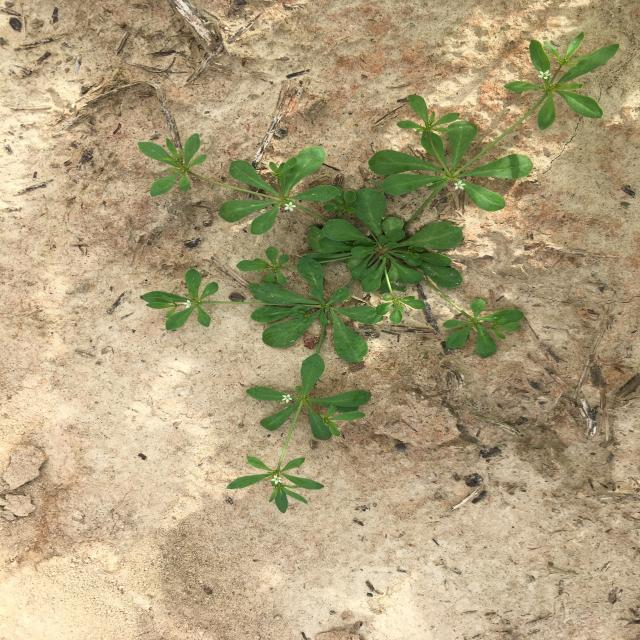Carpetweed: (138, 31, 620, 514)
